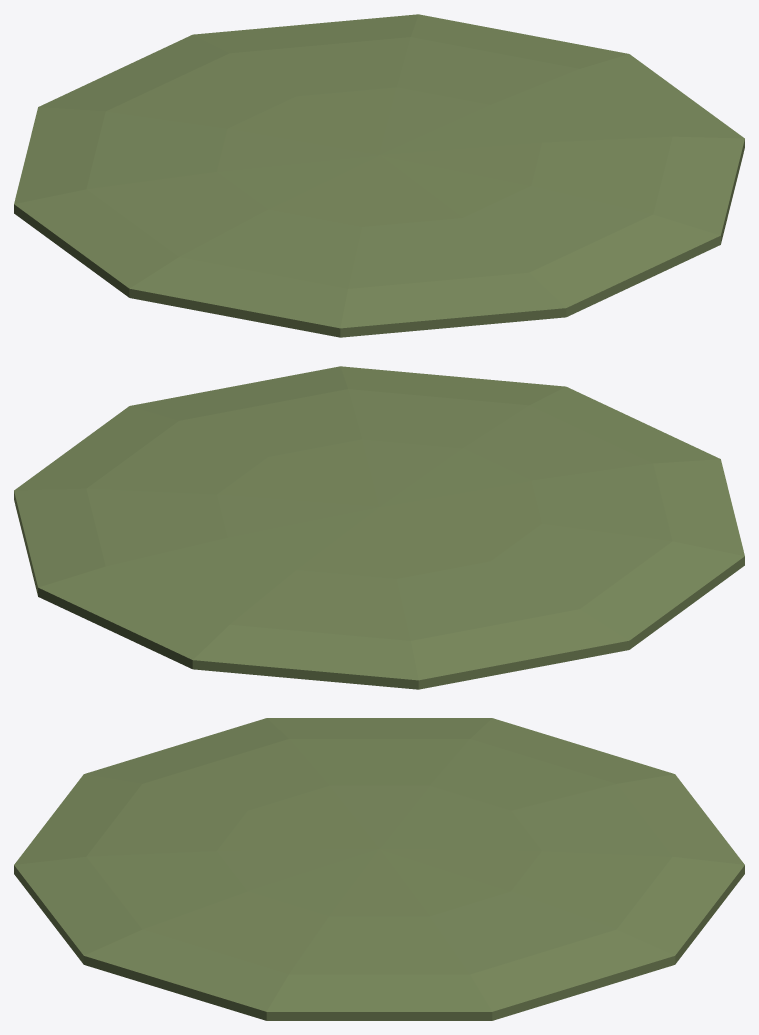
Rendered from Food_MushroomPatch_Used.fbx.
3 renders of one model, top to bottom at view 1: azimuth 30°, elevation 25°; view 2: azimuth 150°, elevation 25°; view 3: azimuth 270°, elevation 25°, orthographic. The views are drawn at different scales.
Visible parts, largest first — view 1: Res_Food_MushroomPatch_Used; view 2: Res_Food_MushroomPatch_Used; view 3: Res_Food_MushroomPatch_Used.
Boxes of the visible parts, box(x1,y1,x2,y2) form: Res_Food_MushroomPatch_Used: box(14, 14, 744, 337); Res_Food_MushroomPatch_Used: box(14, 366, 744, 689); Res_Food_MushroomPatch_Used: box(14, 718, 744, 1020).
Size of the model in its own units: 0.9272 by 0.06 by 0.9749.
